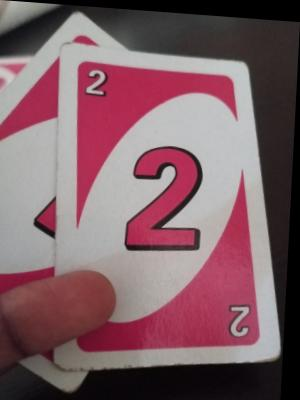num_2: (221, 297, 262, 337), (82, 63, 116, 102)
